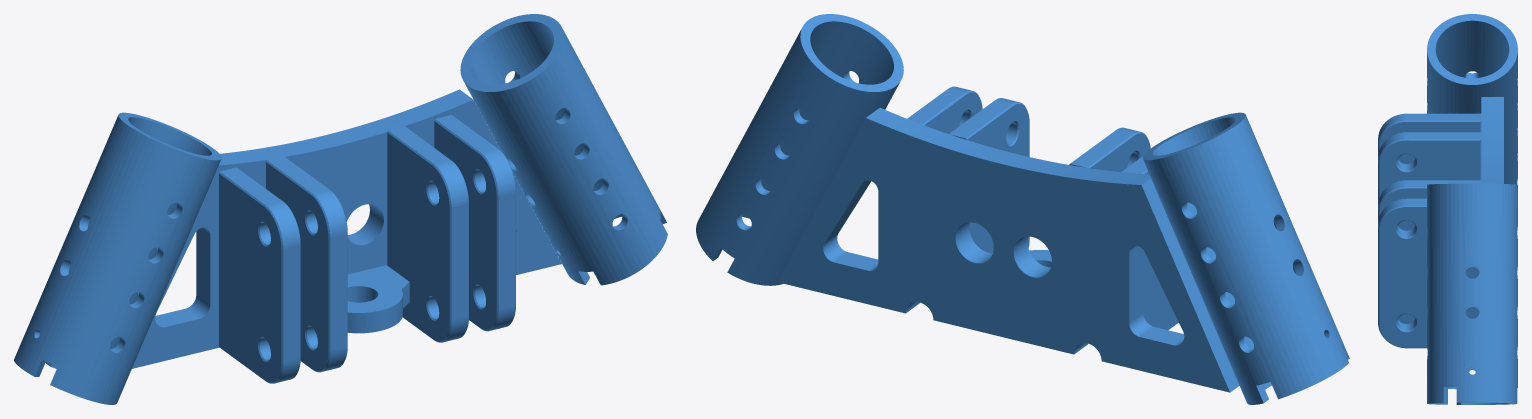
File: aframe_v9.glb
3 renders of one model, left to right at view 1: azimuth 30°, elevation 25°; view 2: azimuth 150°, elevation 25°; view 3: azimuth 270°, elevation 25°, orthographic. The views are drawn at different scales.
Visible parts, largest first — view 1: c_02a, c_02b, c_01, c_03a, c_03c, c_03b, c_03d, c_04; view 2: c_01, c_02a, c_02b, c_03c, c_03b, c_03d, c_03a; view 3: c_02b, c_02a, c_03d, c_03b, c_03a, c_01, c_03c.
Boxes of the visible parts, <box> form: c_02a: <box>14,112,221,404</box>; c_02b: <box>460,14,667,285</box>; c_01: <box>132,89,561,368</box>; c_03a: <box>219,167,300,383</box>; c_03c: <box>387,126,468,342</box>; c_03b: <box>266,156,347,372</box>; c_03d: <box>434,115,515,331</box>; c_04: <box>347,265,409,333</box>; c_01: <box>777,107,1239,392</box>; c_02a: <box>1142,112,1349,404</box>; c_02b: <box>696,14,903,285</box>; c_03c: <box>949,98,1029,253</box>; c_03b: <box>1069,127,1150,171</box>; c_03d: <box>907,86,982,133</box>; c_03a: <box>1121,156,1178,329</box>; c_02b: <box>1427,183,1517,404</box>; c_02a: <box>1427,14,1517,184</box>; c_03d: <box>1378,198,1479,348</box>; c_03b: <box>1378,132,1481,203</box>; c_03a: <box>1378,113,1481,163</box>; c_01: <box>1481,97,1503,183</box>; c_03c: <box>1378,180,1481,323</box>.
Bounding box in the file's own units: 417 × 165 × 97.75.
